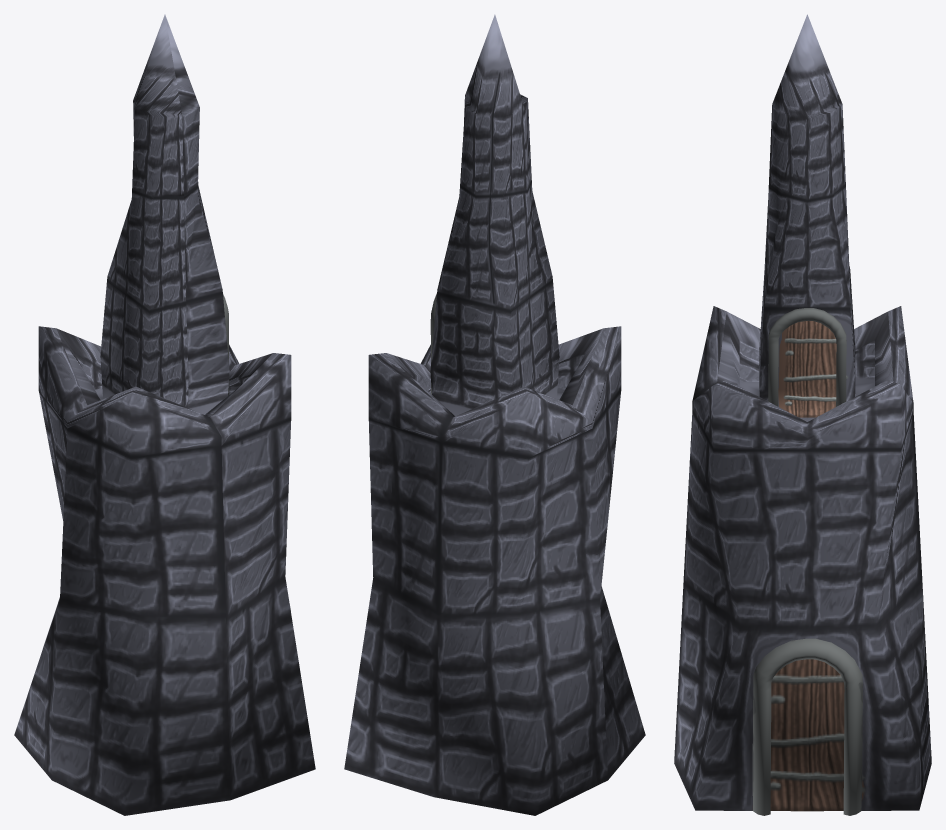
Rendered from torre.fbx.
The picture shows the model from 3 angles, left to right: view 1: azimuth 30°, elevation 25°; view 2: azimuth 150°, elevation 25°; view 3: azimuth 270°, elevation 25°; orthographic projection.
Parts seen in each view (by area): view 1: Cube; view 2: Cube; view 3: Cube.
Part boxes in pixels (x1=…): Cube: x1=14, y1=14, x2=315, y2=815; Cube: x1=344, y1=14, x2=645, y2=815; Cube: x1=674, y1=14, x2=931, y2=815.
Size of the model in its own units: 3.53 by 11.42 by 3.56.
